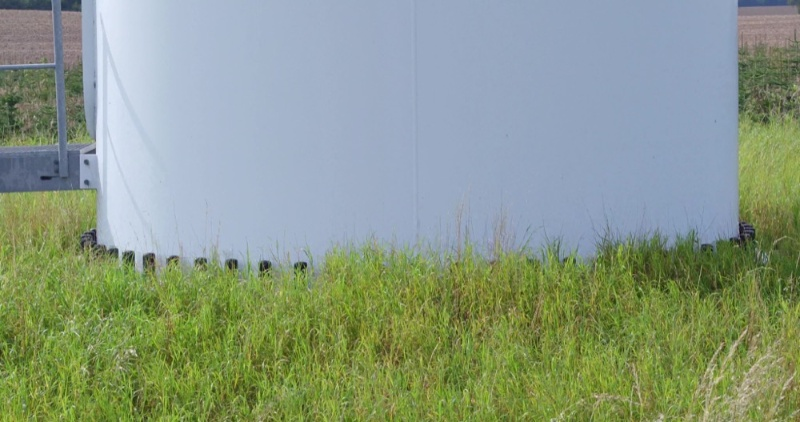weldseam: (403, 1, 425, 246)
